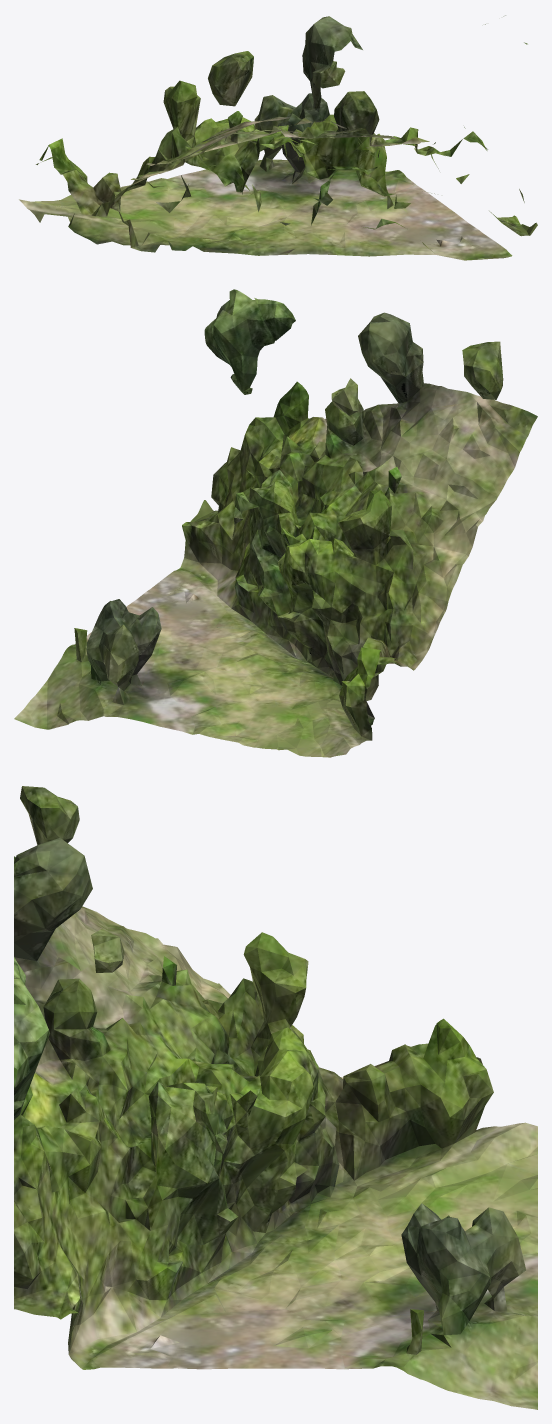
The picture shows the model from 3 angles, top to bottom: view 1: azimuth 30°, elevation 25°; view 2: azimuth 150°, elevation 25°; view 3: azimuth 270°, elevation 25°; orthographic projection. The views are drawn at different scales.
Bounding box in the file's own units: 26.11 × 24.22 × 26.11.
Materials: 5 (5 with a texture image).
